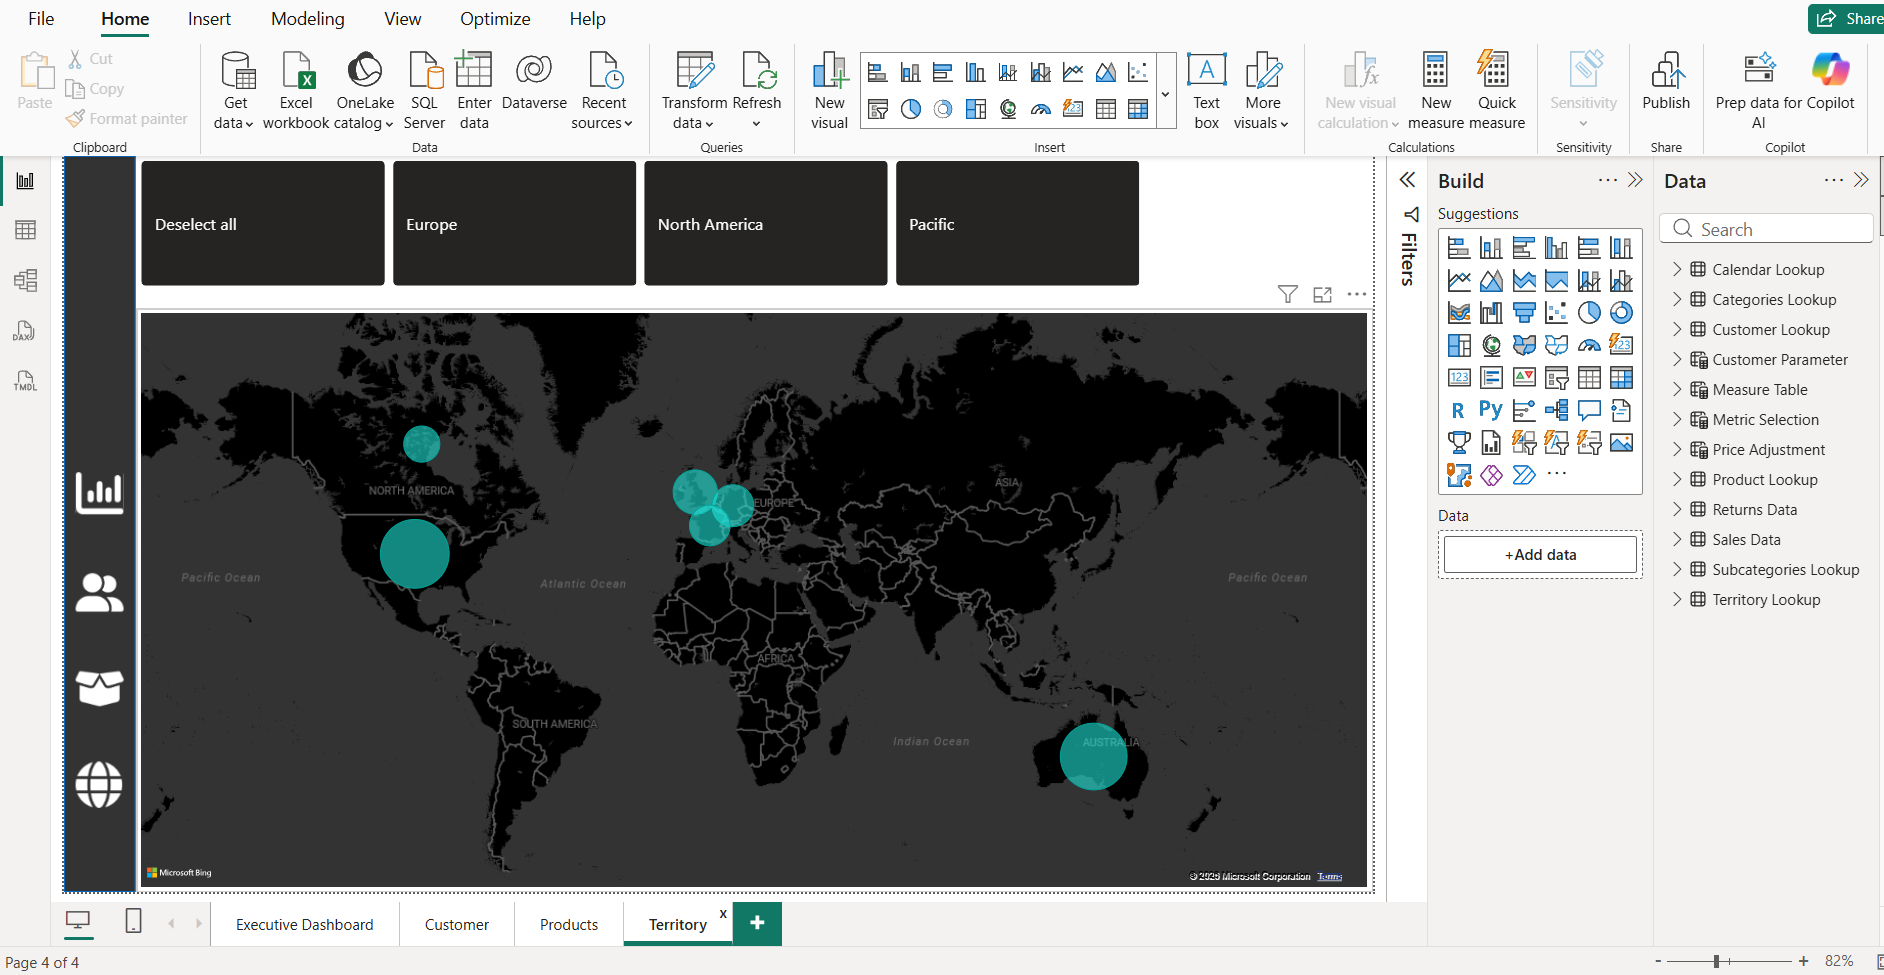

Layout of this report page (visuals, bound fields, positions):
{"tool":"powerbi","page":{"name":"Territory","canvas":[1280,720],"ordinal":3},"visuals":[{"type":"shape","box":[0,0,70,720],"z":0},{"type":"actionButton","box":[7.5,301.2,55,58.8],"z":0,"group":"g1"},{"type":"map","fields":{"Category":["Territory Lookup.Country"],"Size":["Measure Table.Total Sales"]},"box":[70.7,148.6,1209,571.3],"z":1000},{"type":"actionButton","box":[7.5,398.7,55,56.2],"z":1000,"group":"g1"},{"type":"advancedSlicerVisual","fields":{"Values":["Territory Lookup.Continent"]},"box":[70.7,0,986.8,132.7],"z":2000},{"type":"actionButton","box":[7.5,493.7,55,56.2],"z":2000,"group":"g1"},{"type":"group","id":"g1","title":"Group 1","box":[7.5,301.2,55,341.2],"z":3000},{"type":"actionButton","box":[7.5,588.7,55,53.8],"z":3000,"group":"g1"}]}

Visuals, with their boxes on the page's 1280x720 design canvas (x1, y1, x2, y2). These are canvas units, not pixel positions in the 1884x975 screenshot, which may show the page scaled, cropped or inside an application window:
shape: (x1=0, y1=0, x2=70, y2=720)
actionButton: (x1=8, y1=301, x2=62, y2=360)
map - Territory Lookup.Country x Measure Table.Total Sales: (x1=71, y1=149, x2=1280, y2=720)
actionButton: (x1=8, y1=399, x2=62, y2=455)
advancedSlicerVisual - Territory Lookup.Continent: (x1=71, y1=0, x2=1058, y2=133)
actionButton: (x1=8, y1=494, x2=62, y2=550)
"Group 1" group: (x1=8, y1=301, x2=62, y2=642)
actionButton: (x1=8, y1=589, x2=62, y2=642)
